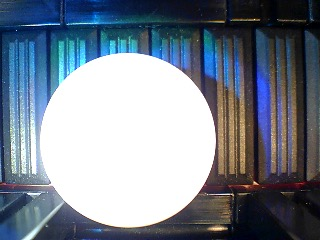BLANK: (40, 53, 216, 227)
